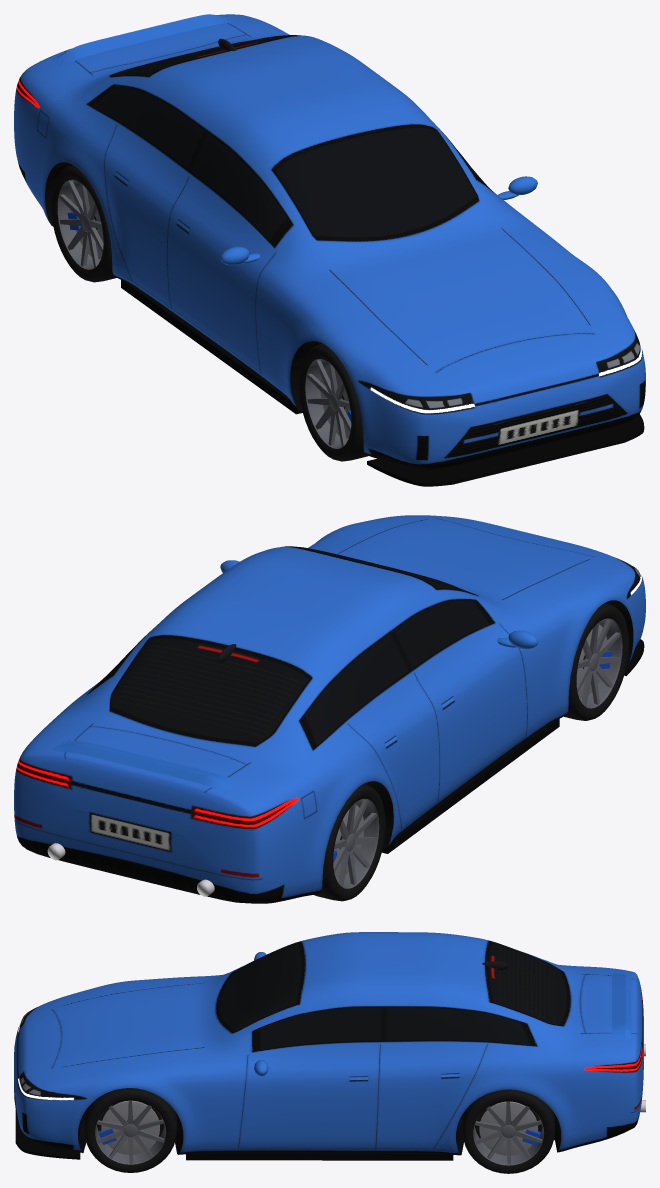
Rendered from car_vanta.glb.
3 views of the same model, one above another, from view 1: azimuth 30°, elevation 25°; view 2: azimuth 150°, elevation 25°; view 3: azimuth 270°, elevation 25° (orthographic). The views are drawn at different scales.
Visible parts, largest first — view 1: Body, Wheel_FR, Wheel_RR; view 2: Body, Wheel_RR, Wheel_FR; view 3: Body, Wheel_FL, Wheel_RL.
Boxes of the visible parts, x1=… form: Body: x1=14, y1=14, x2=645, y2=486; Wheel_FR: x1=299, y1=343, x2=368, y2=461; Wheel_RR: x1=51, y1=165, x2=116, y2=282; Body: x1=14, y1=515, x2=645, y2=903; Wheel_RR: x1=313, y1=784, x2=385, y2=901; Wheel_FR: x1=564, y1=603, x2=628, y2=720; Body: x1=14, y1=932, x2=645, y2=1160; Wheel_FL: x1=84, y1=1088, x2=176, y2=1172; Wheel_RL: x1=462, y1=1089, x2=554, y2=1173.
Size of the model in its own units: 2.12 by 1.4 by 4.77.
10 materials, 1 textured.
